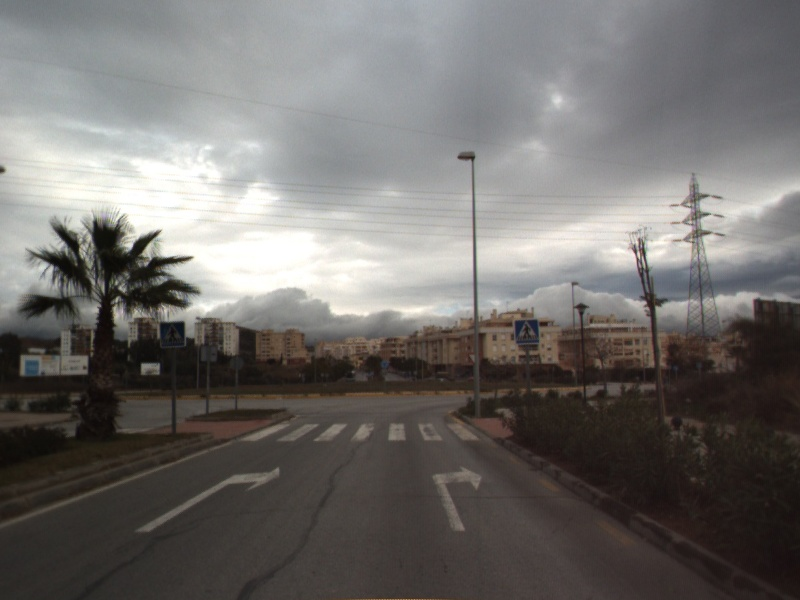RIGHT: (133, 465, 281, 534), (430, 464, 484, 533)
